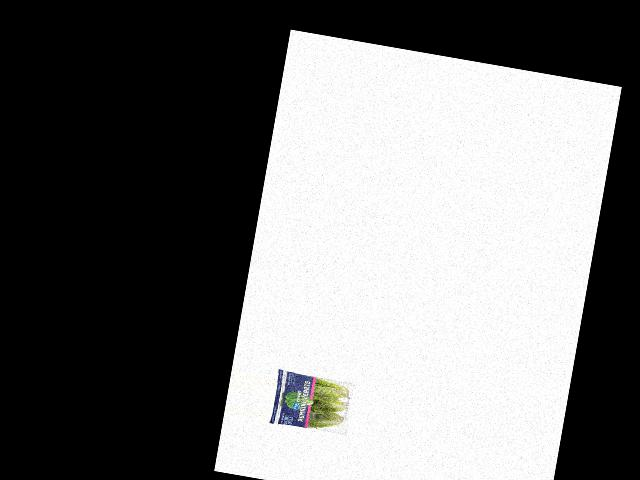lettuce: (270, 366, 353, 438)
